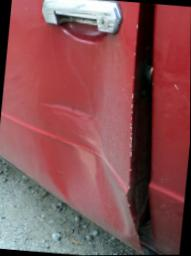Door: (0, 0, 172, 256)
